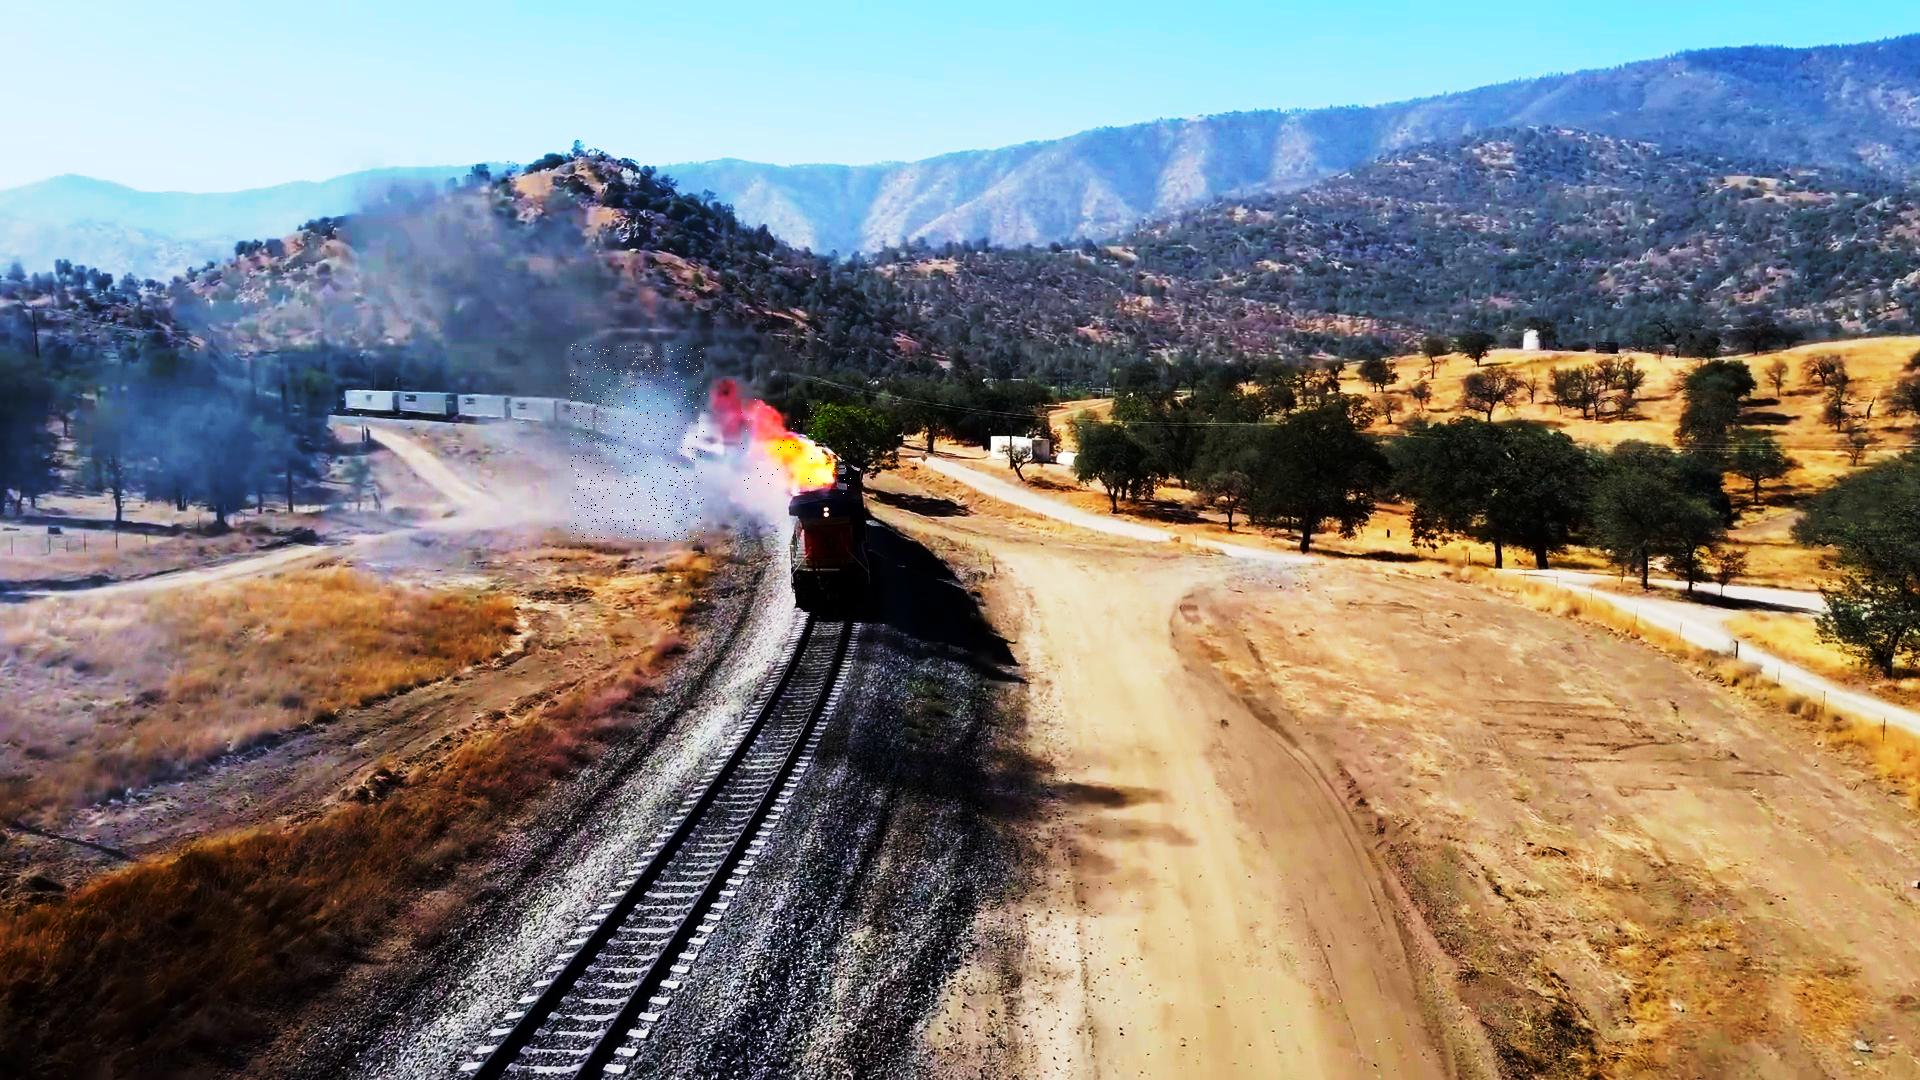fire: (741, 400, 855, 495)
smoke: (570, 344, 705, 542)
